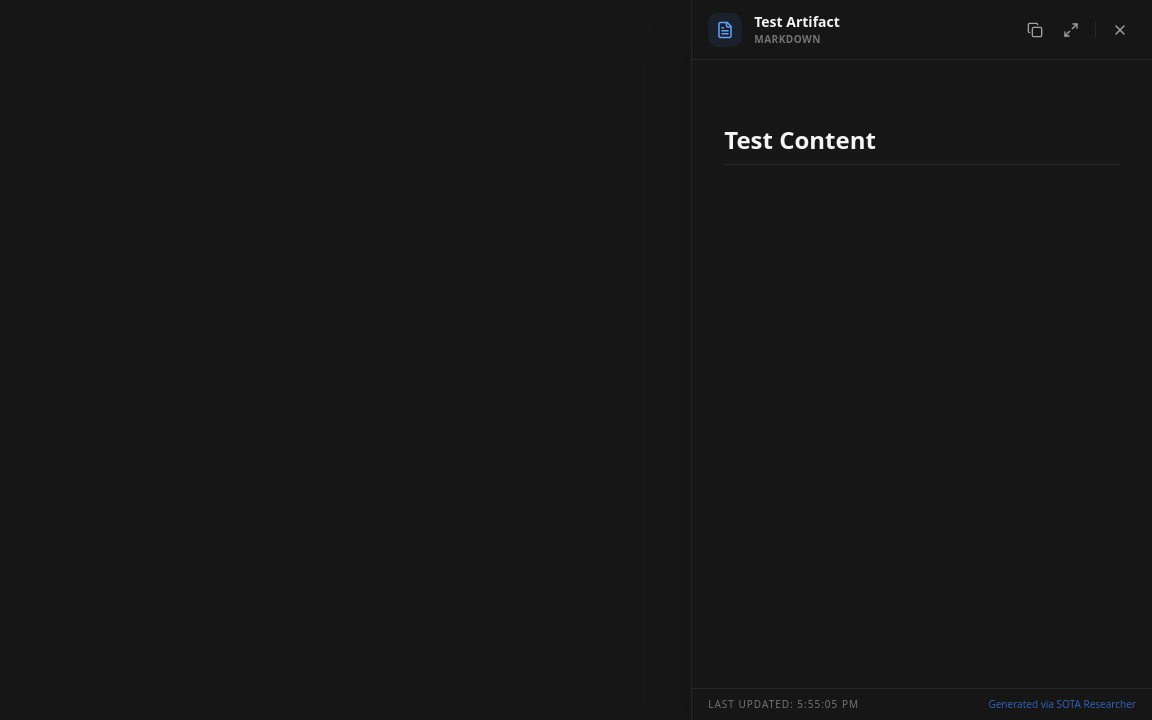
ArtifactView Component › updates the maximize button label when toggled
Click the button named "maximize" at (1071, 30), box left=1055, top=14, right=1087, bottom=46
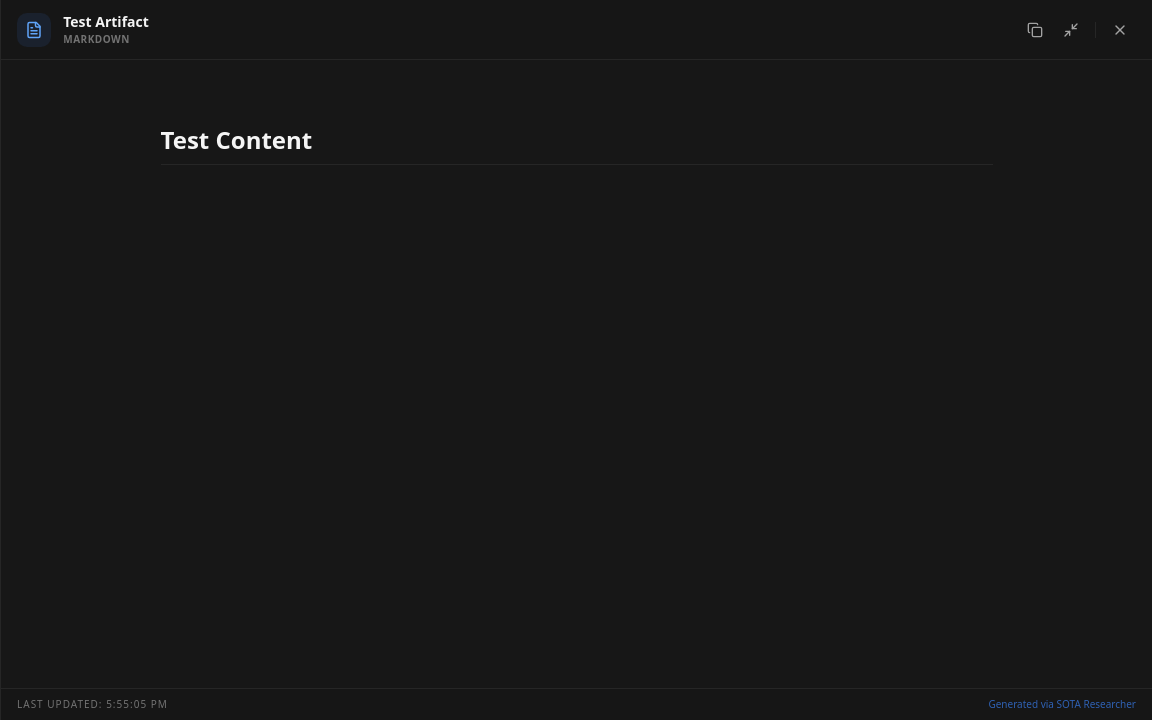
Now the button named "restore size" is shown, box left=1055, top=14, right=1087, bottom=46
